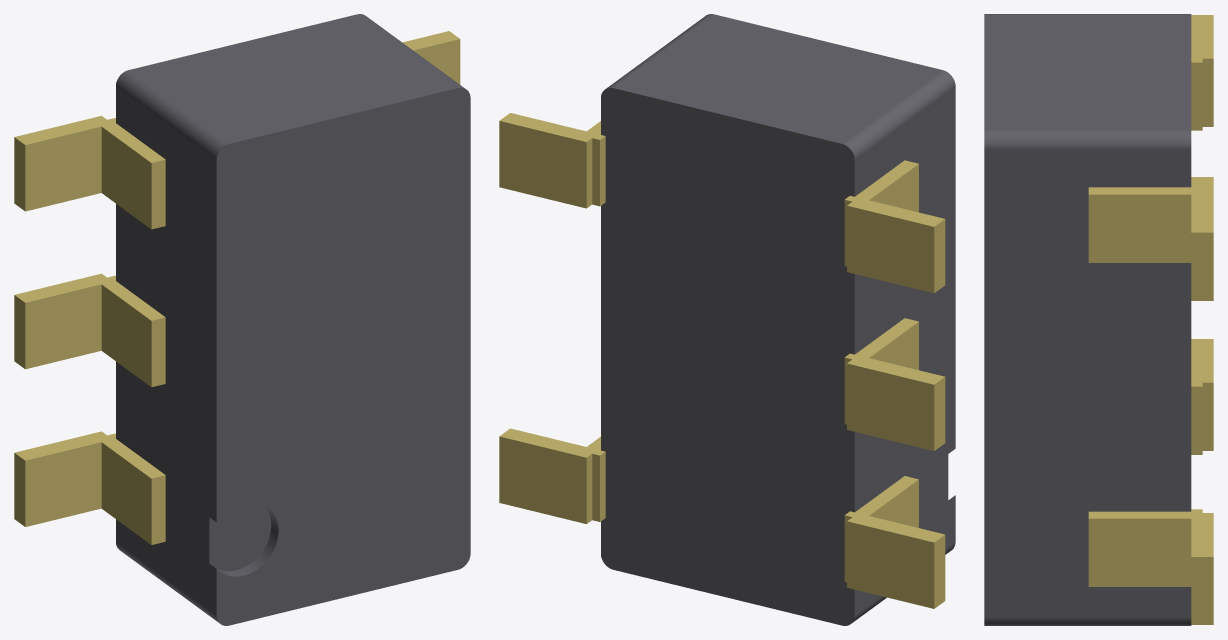
3 views of the same model, side by side, from view 1: azimuth 30°, elevation 25°; view 2: azimuth 150°, elevation 25°; view 3: azimuth 270°, elevation 25° (orthographic). The views are drawn at different scales.
Parts seen in each view (by area): view 1: extra, pins; view 2: extra, pins; view 3: extra, pins.
Boxes of the visible parts, x1,y1,x2,y2 form: extra: (116,14,470,625); pins: (14,31,460,544); extra: (601,14,955,625); pins: (499,113,945,608); extra: (984,14,1191,625); pins: (1088,15,1213,624).
Size of the model in its own units: 2.74 by 2.9 by 1.22.
